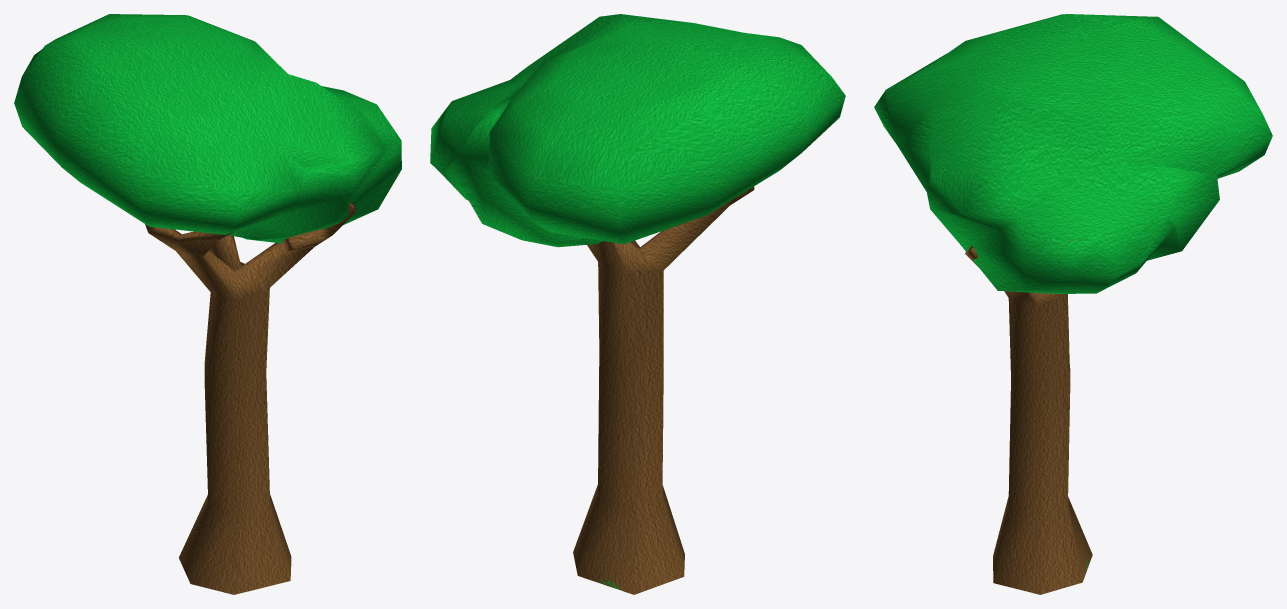
Rendered from Tree1.fbx.
3 views of the same model, side by side, from view 1: azimuth 30°, elevation 25°; view 2: azimuth 150°, elevation 25°; view 3: azimuth 270°, elevation 25° (orthographic). The views are drawn at different scales.
Parts seen in each view (by area): view 1: pCylinder2; view 2: pCylinder2; view 3: pCylinder2.
Boxes of the visible parts, <box> form: pCylinder2: <box>14,14,401,594</box>; pCylinder2: <box>430,14,845,594</box>; pCylinder2: <box>874,14,1272,594</box>.
Bounding box in the file's own units: 9.48 × 13.73 × 9.82.
Materials: 1 (1 with a texture image).
